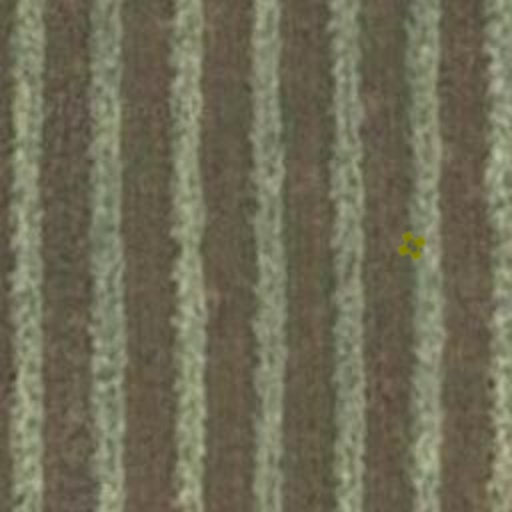cross: (392, 226, 432, 266)
